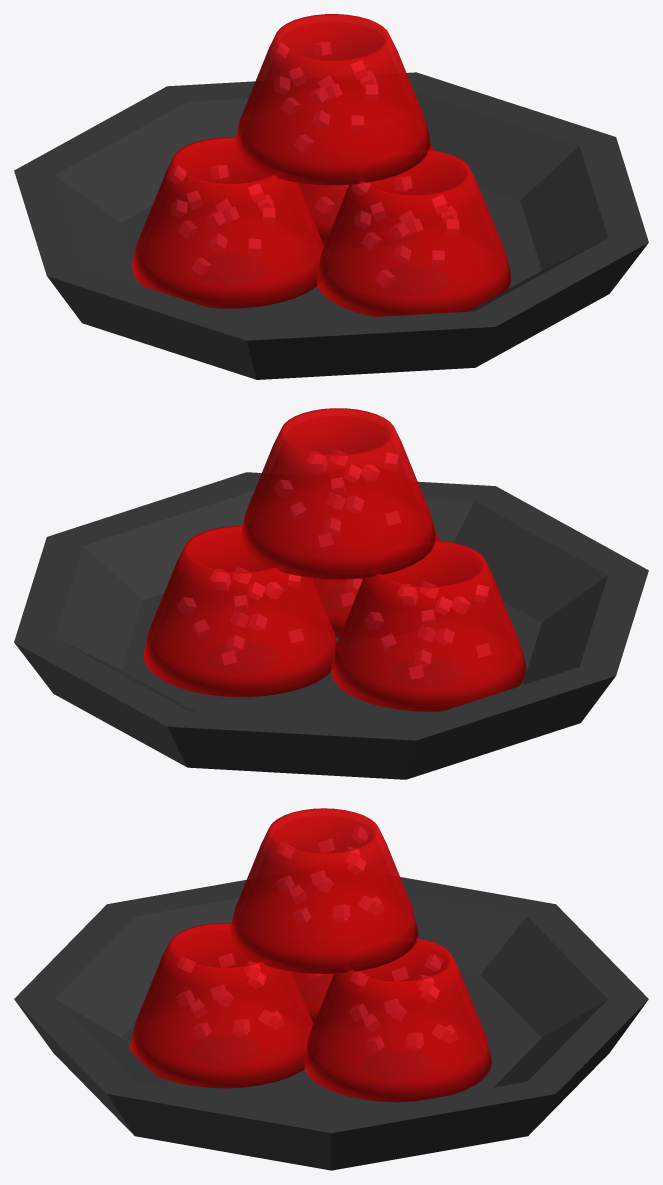
File: carnivor jello.fbx
3 renders of one model, top to bottom at view 1: azimuth 30°, elevation 25°; view 2: azimuth 150°, elevation 25°; view 3: azimuth 270°, elevation 25°, orthographic. The views are drawn at different scales.
Parts seen in each view (by area): view 1: carnivor jello; view 2: carnivor jello; view 3: carnivor jello.
Boxes of the visible parts, <box> form: carnivor jello: <box>14,14,648,379</box>; carnivor jello: <box>14,408,648,779</box>; carnivor jello: <box>14,808,648,1170</box>.
Bounding box in the file's own units: 302 × 124 × 302.
